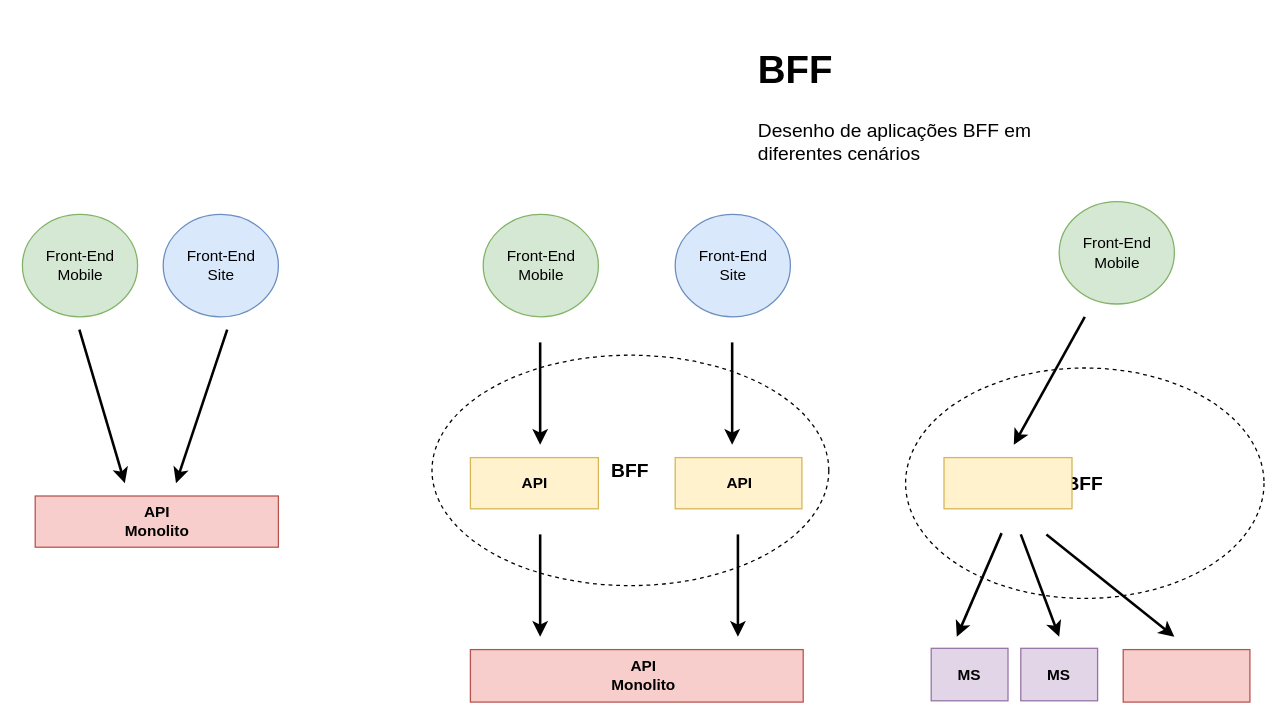
This 1286x724 diagram has some shape labels left out. The centre of each missing label's shape, as x and y in pixels:
API BFF: (x=1007, y=482)
Monolito: (x=1186, y=675)
